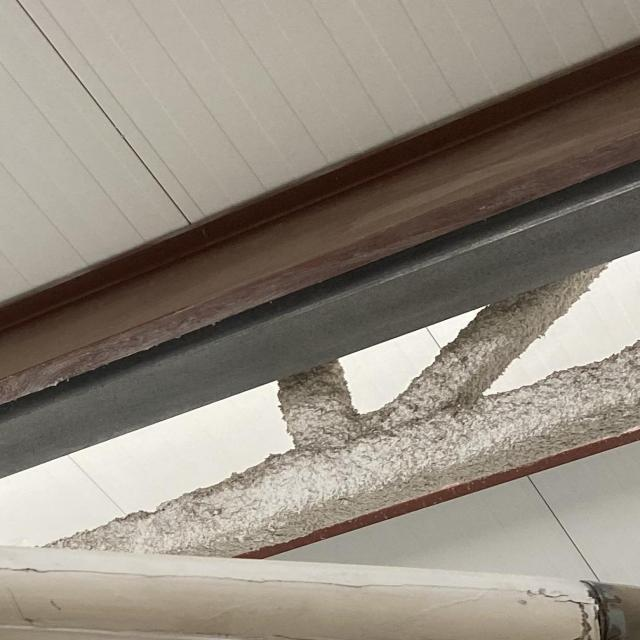Rupture: (0, 550, 492, 598), (570, 600, 594, 640)
